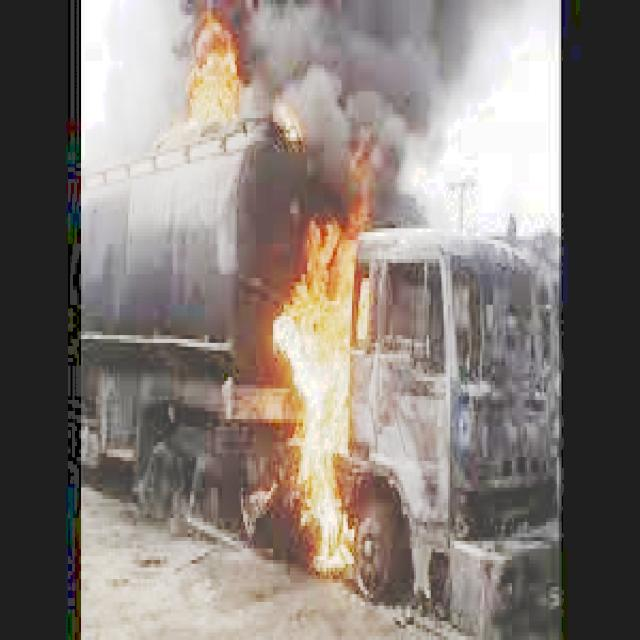api: (270, 199, 391, 592), (174, 13, 257, 135), (270, 89, 317, 161)
